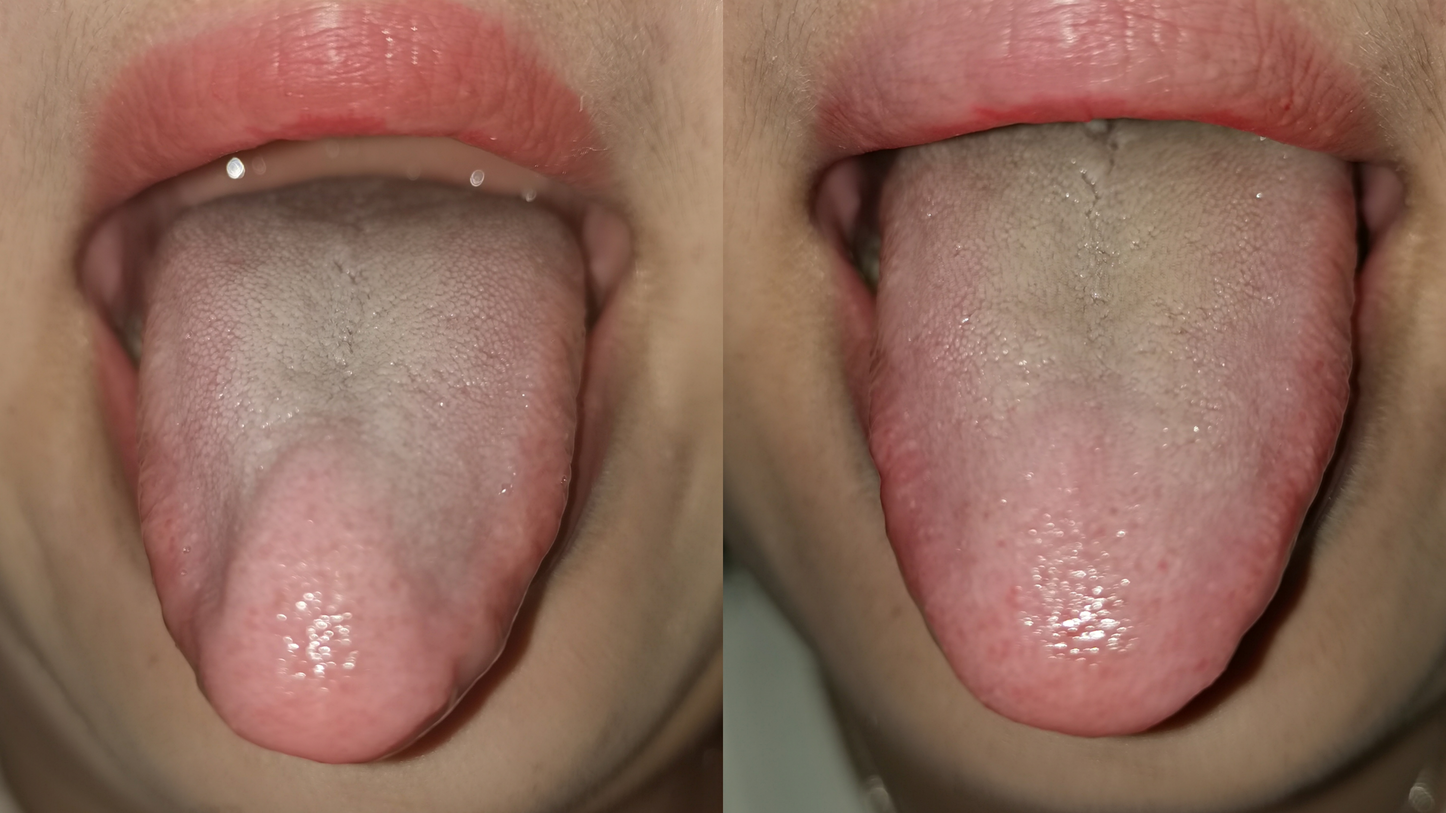baitaishe: (870, 121, 1356, 737), (134, 176, 586, 763)
